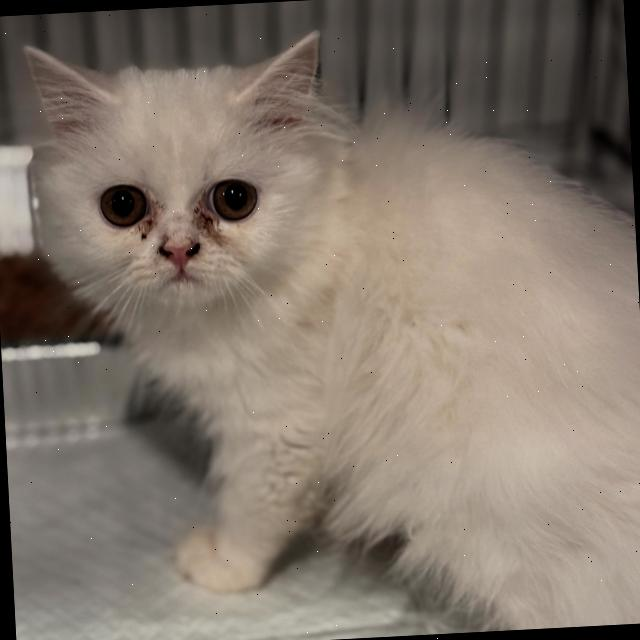persian_cat: (9, 18, 376, 370)
